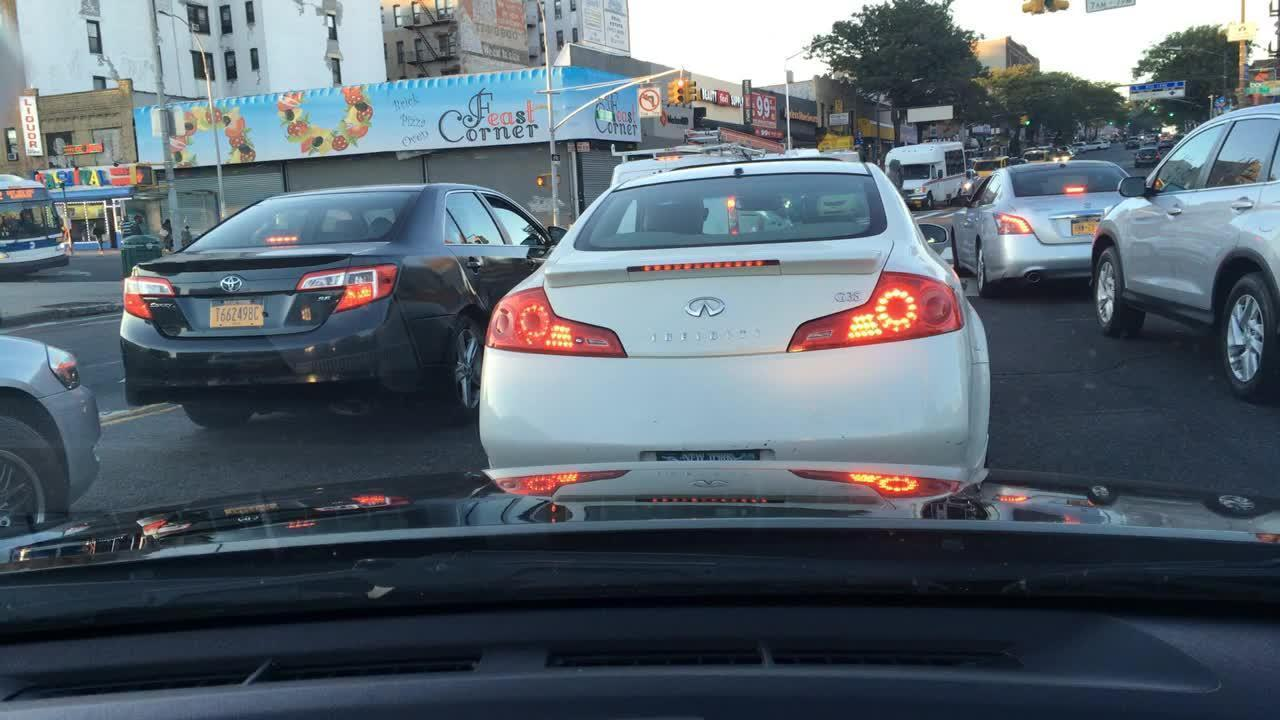Infiniti: (675, 284, 733, 328)
